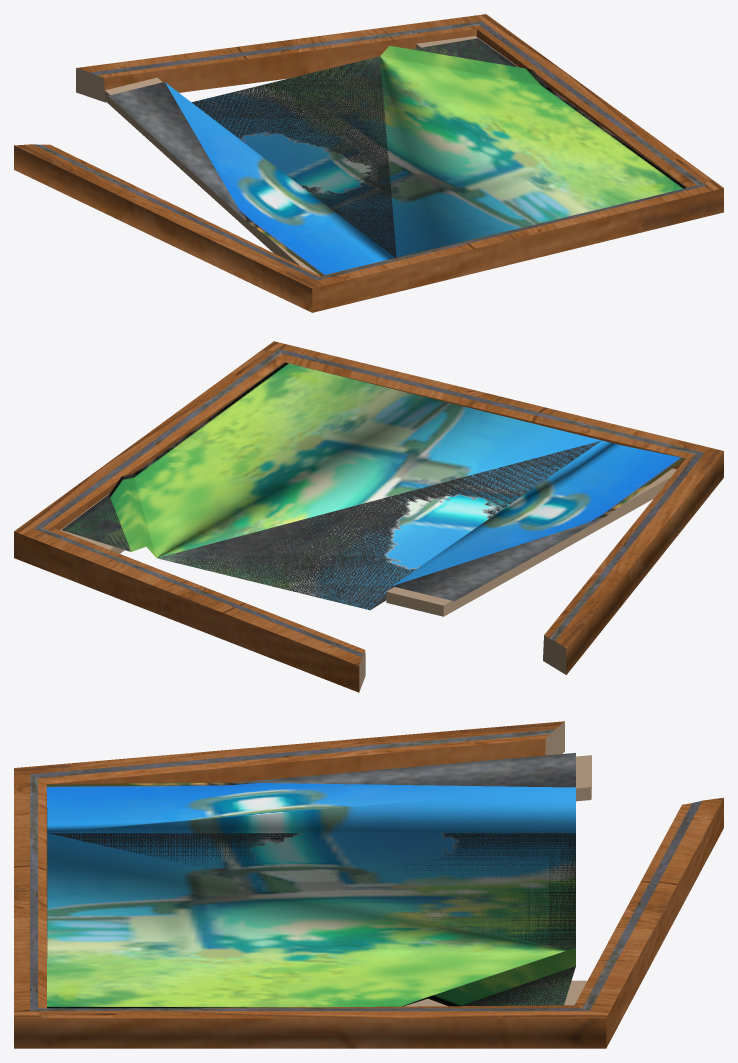
Rendered from M_Home_Garden_Painting_017.fbx.
3 renders of one model, top to bottom at view 1: azimuth 30°, elevation 25°; view 2: azimuth 150°, elevation 25°; view 3: azimuth 270°, elevation 25°, orthographic. The views are drawn at different scales.
Visible parts, largest first — view 1: M_Home_Garden_Painting_017; view 2: M_Home_Garden_Painting_017; view 3: M_Home_Garden_Painting_017.
Boxes of the visible parts, x1,y1,x2,y2 form: M_Home_Garden_Painting_017: (14,14,723,312); M_Home_Garden_Painting_017: (14,341,723,692); M_Home_Garden_Painting_017: (14,721,723,1048).
Bounding box in the file's own units: 103 × 9.46 × 104.
